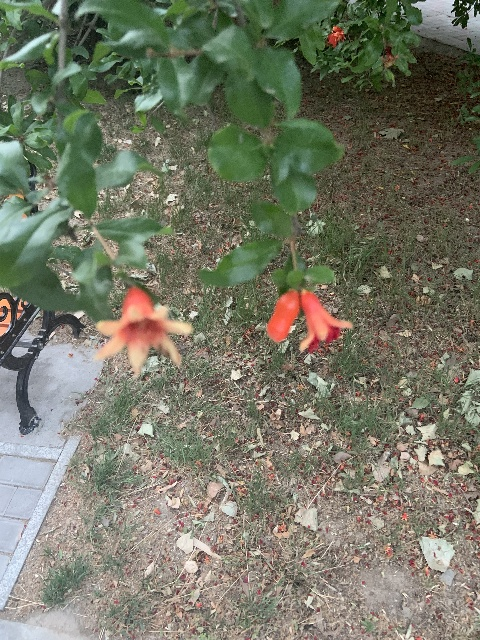bud: (266, 289, 299, 342), (332, 26, 341, 32)
flower: (94, 286, 193, 376), (298, 291, 353, 354), (326, 30, 336, 48), (334, 30, 346, 42)
